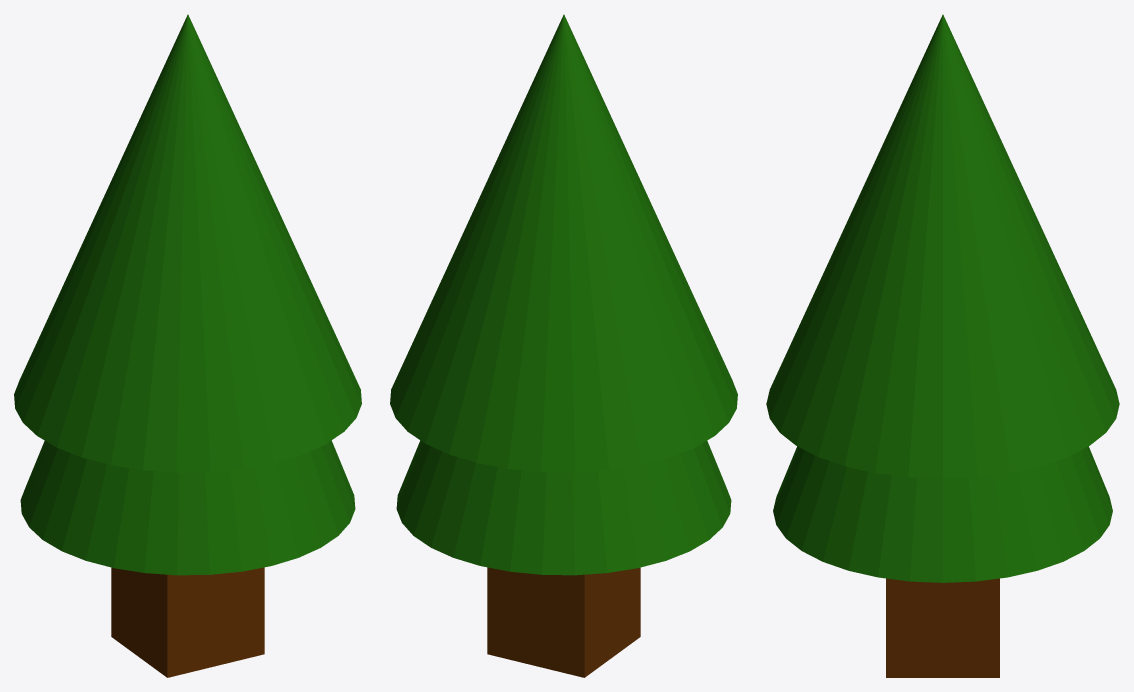
The model's file is arbre2-map1.fbx.
3 renders of one model, left to right at view 1: azimuth 30°, elevation 25°; view 2: azimuth 150°, elevation 25°; view 3: azimuth 270°, elevation 25°, orthographic.
Parts seen in each view (by area): view 1: Branche sapin.001, Branche sapin, pied; view 2: Branche sapin.001, Branche sapin, pied; view 3: Branche sapin.001, Branche sapin, pied.
Part boxes in pixels (left/top/right/bottom): Branche sapin.001: left=14, top=14, right=361, bottom=472; Branche sapin: left=20, top=440, right=355, bottom=575; pied: left=111, top=567, right=264, bottom=677; Branche sapin.001: left=390, top=14, right=737, bottom=472; Branche sapin: left=396, top=440, right=731, bottom=575; pied: left=487, top=567, right=640, bottom=677; Branche sapin.001: left=766, top=14, right=1119, bottom=478; Branche sapin: left=773, top=446, right=1112, bottom=582; pied: left=886, top=578, right=999, bottom=677.
Bounding box in the file's own units: 294 × 588 × 294.
